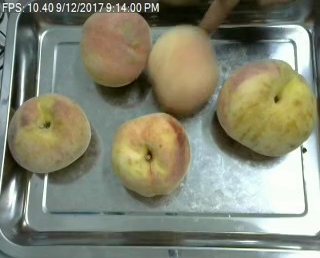Peach: (215, 59, 318, 157), (7, 92, 92, 173), (112, 112, 190, 197), (146, 25, 219, 115), (79, 4, 151, 87)
